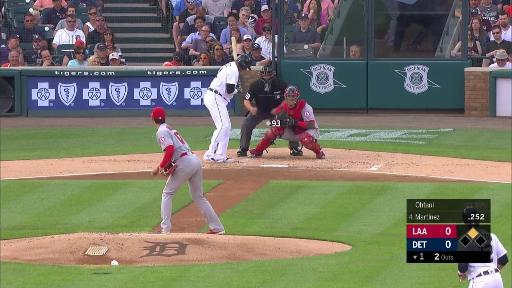pitcher: (149, 107, 228, 235)
